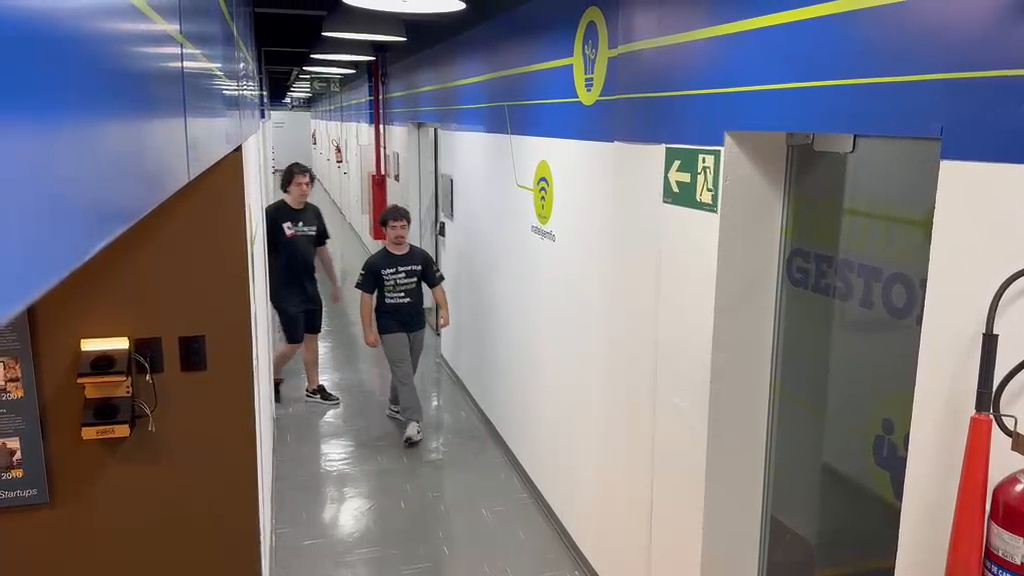person: (355, 203, 450, 447), (265, 162, 343, 404)
